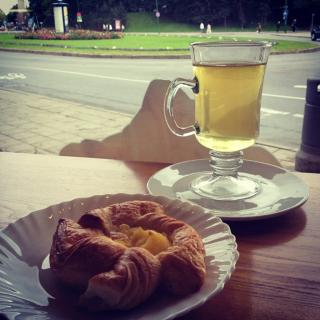Croissant: (49, 216, 122, 288)
